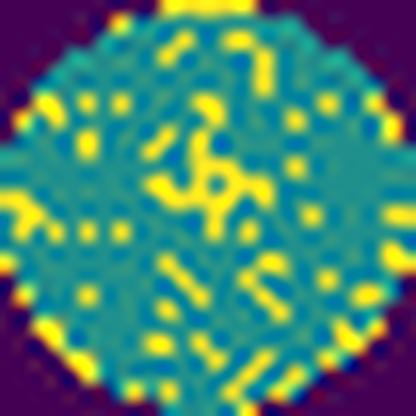Center: (136, 122, 278, 238)
